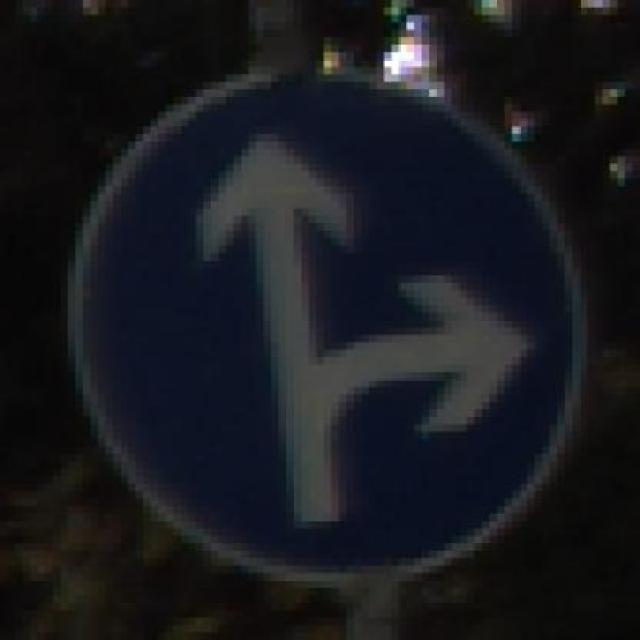Go Straight or Turn Right: (60, 67, 595, 588)
